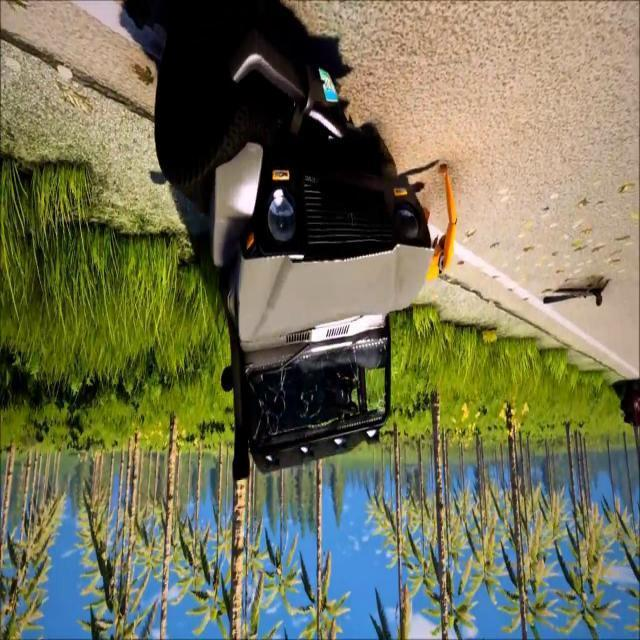severe: (150, 9, 458, 491)
